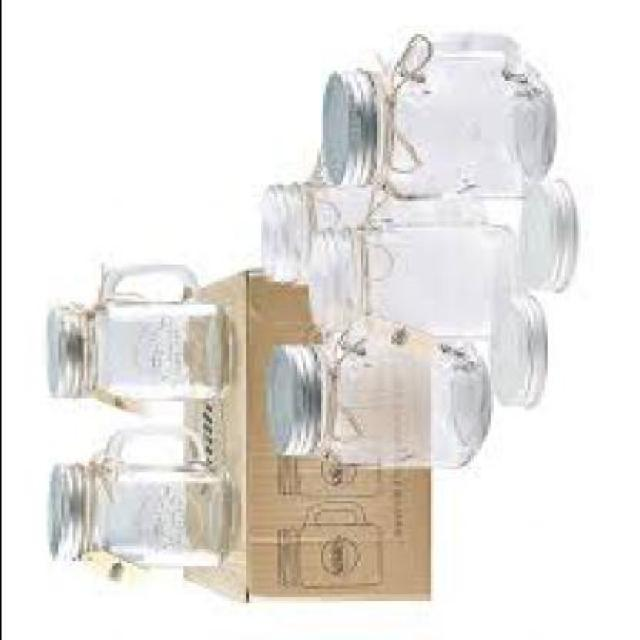CARDBOARD: (242, 469, 426, 603), (180, 276, 242, 602), (245, 282, 268, 469), (270, 290, 307, 350)
GLASS: (370, 40, 552, 205), (305, 199, 509, 341), (316, 312, 484, 472), (253, 154, 404, 288), (90, 424, 224, 574), (86, 265, 222, 401)
METAL: (318, 74, 372, 194), (261, 350, 313, 461), (46, 308, 88, 406), (46, 472, 82, 563)
